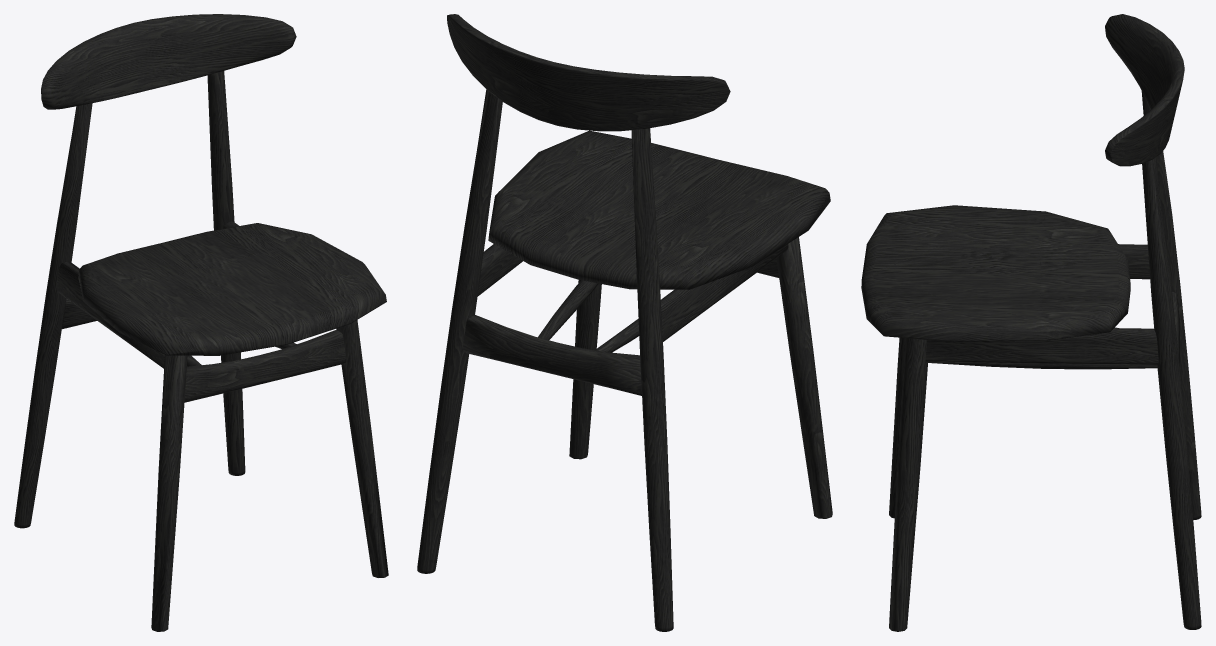
The model's file is 9df5c46e-cadf-4c15-816c-31ef905892ee.glb.
The picture shows the model from 3 angles, left to right: view 1: azimuth 30°, elevation 25°; view 2: azimuth 150°, elevation 25°; view 3: azimuth 270°, elevation 25°; orthographic projection. The views are drawn at different scales.
Visible parts, largest first — view 1: Vincent shepard teo; view 2: Vincent shepard teo; view 3: Vincent shepard teo.
Boxes of the visible parts, x1,y1,x2,y2 form: Vincent shepard teo: (14,14,388,631); Vincent shepard teo: (417,14,832,631); Vincent shepard teo: (861,14,1201,631).
Bounding box in the file's own units: 0.4416 × 0.7923 × 0.4852.
1 material, 1 textured.
